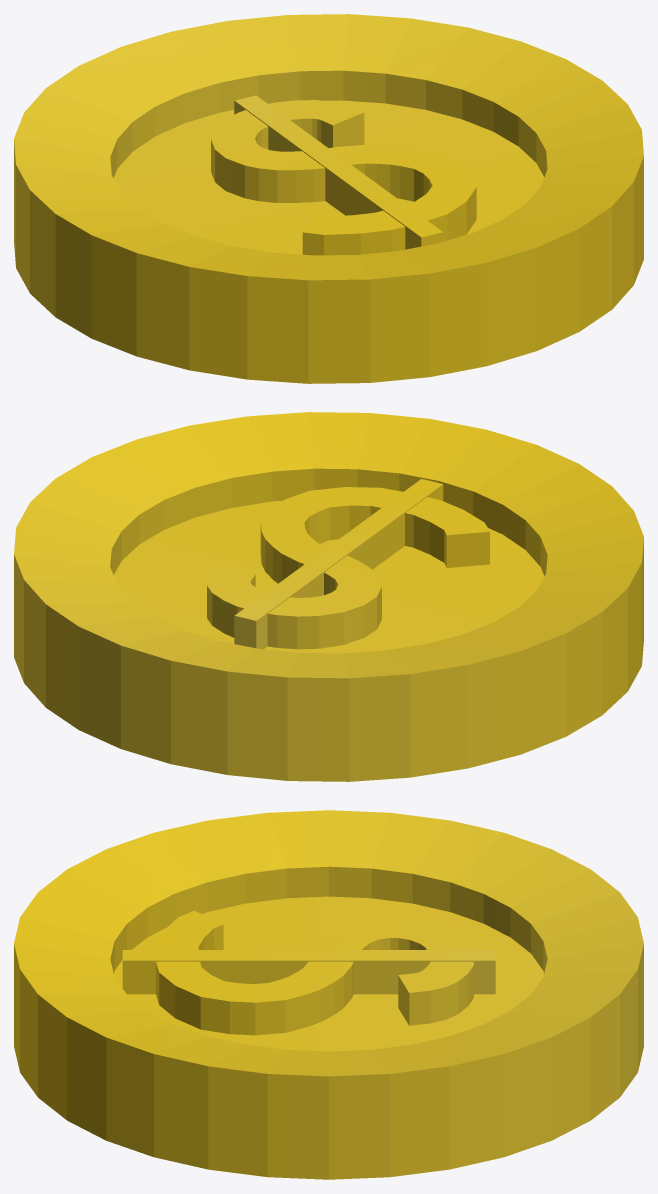
Rendered from Coins Dollars.fbx.
3 renders of one model, top to bottom at view 1: azimuth 30°, elevation 25°; view 2: azimuth 150°, elevation 25°; view 3: azimuth 270°, elevation 25°, orthographic.
Parts seen in each view (by area): view 1: Coins Dollars; view 2: Coins Dollars; view 3: Coins Dollars.
Part boxes in pixels (bbox=[...]): Coins Dollars: bbox=[14, 14, 643, 383]; Coins Dollars: bbox=[14, 412, 643, 781]; Coins Dollars: bbox=[14, 810, 643, 1179].
Bounding box in the file's own units: 11.55 × 2.09 × 11.55.
